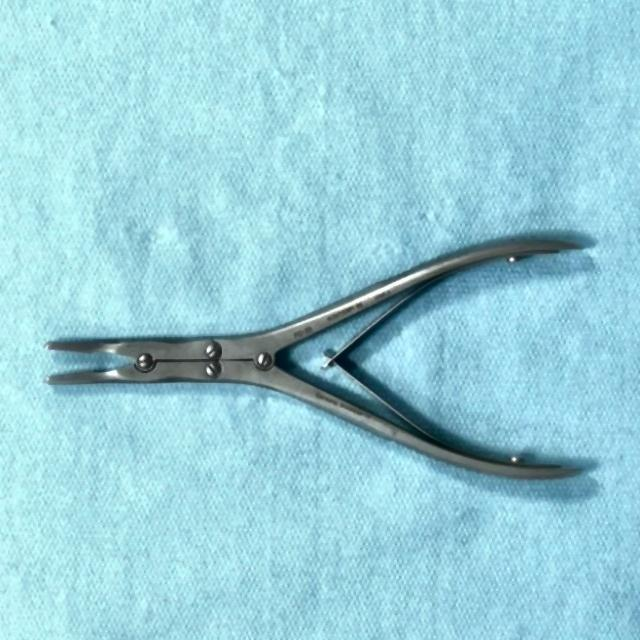gubia: (46, 232, 602, 482)
